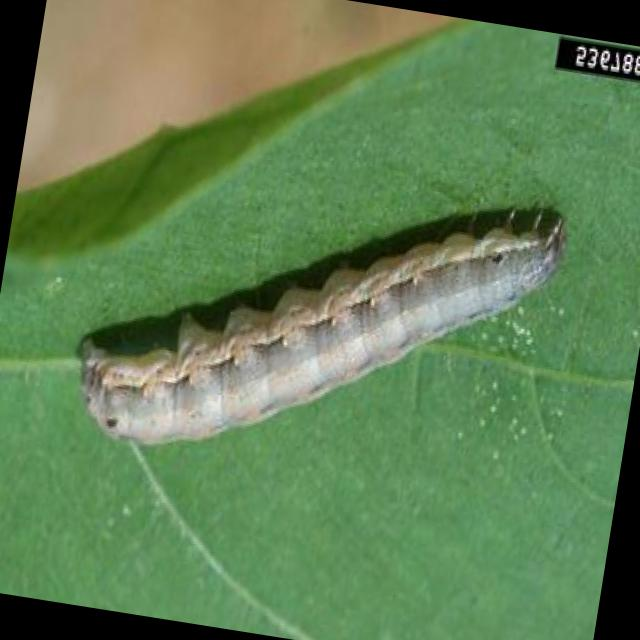armyworm: (58, 129, 575, 522)
